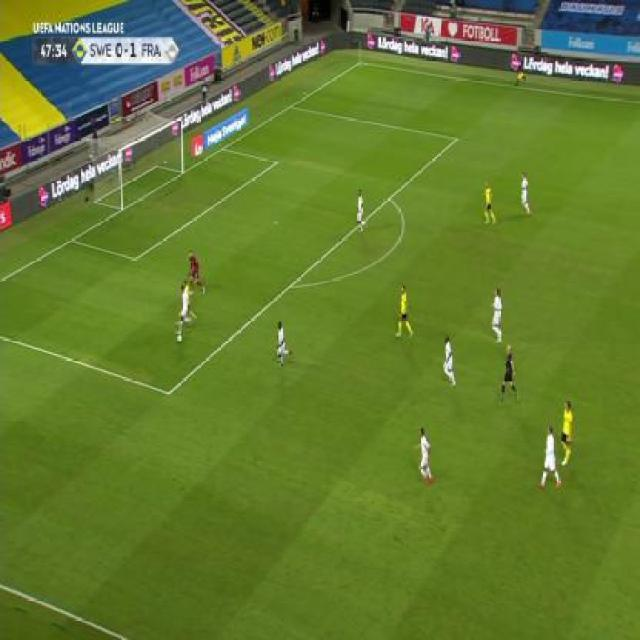ball: (176, 334, 182, 343)
player: (538, 425, 563, 493), (173, 279, 198, 342), (496, 342, 519, 404), (413, 425, 435, 484), (558, 399, 575, 467), (394, 283, 414, 339), (185, 249, 207, 295), (275, 318, 294, 369), (441, 334, 458, 388), (489, 286, 505, 343), (481, 180, 497, 226), (518, 170, 532, 216), (355, 187, 368, 233), (514, 55, 528, 84)
